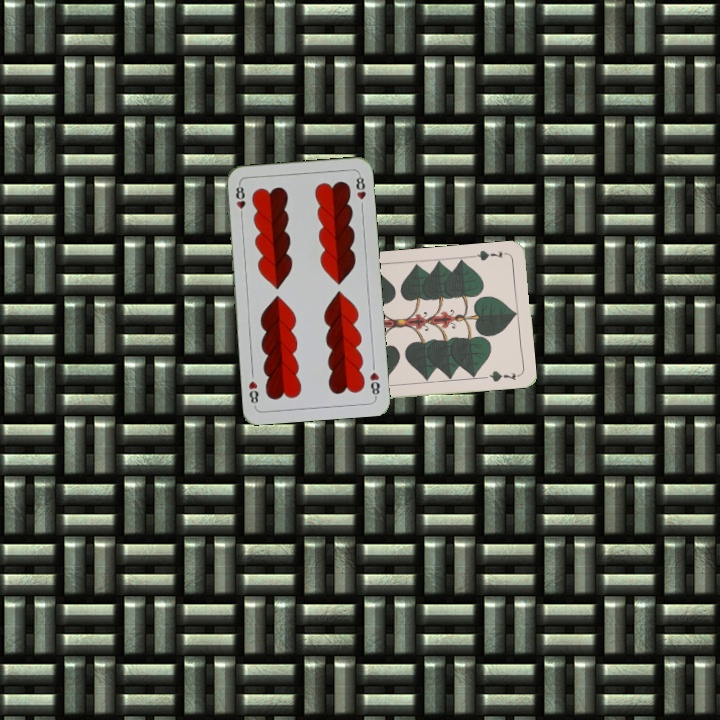G7: (470, 246, 510, 263)
H8: (232, 180, 248, 221), (366, 368, 382, 400)
